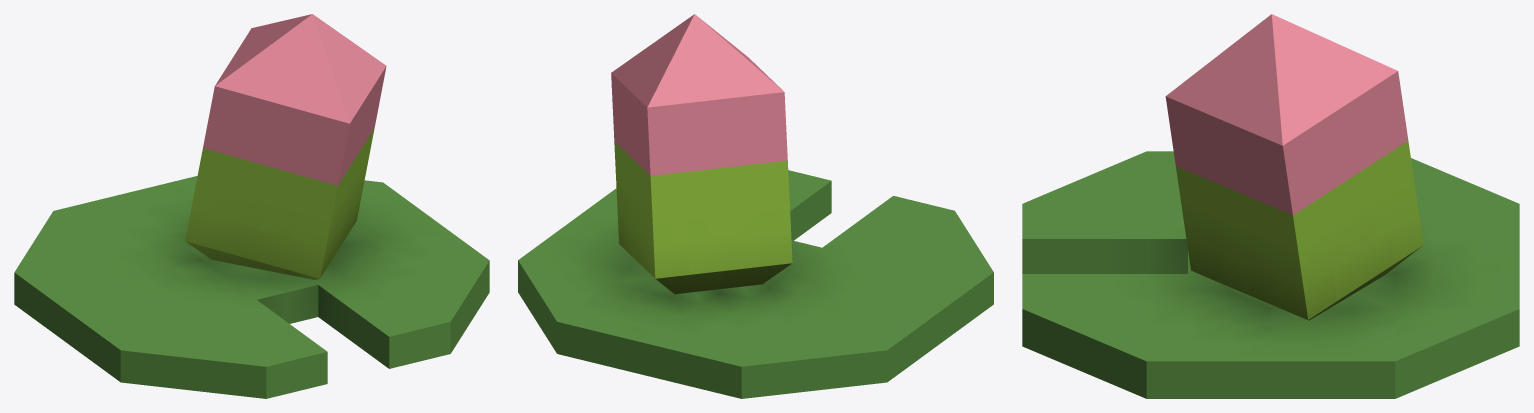
File: LilyPadBud.fbx
3 renders of one model, left to right at view 1: azimuth 30°, elevation 25°; view 2: azimuth 150°, elevation 25°; view 3: azimuth 270°, elevation 25°, orthographic. The views are drawn at different scales.
Visible parts, largest first — view 1: Pad, Bud; view 2: Pad, Bud; view 3: Pad, Bud.
Boxes of the visible parts, x1,y1,x2,y2 form: Pad: (14,176,489,398); Bud: (185,14,386,279); Pad: (518,170,993,398); Bud: (611,14,792,294); Pad: (1022,151,1519,398); Bud: (1165,14,1423,320).
Size of the model in its own units: 120 by 83.78 by 120.
